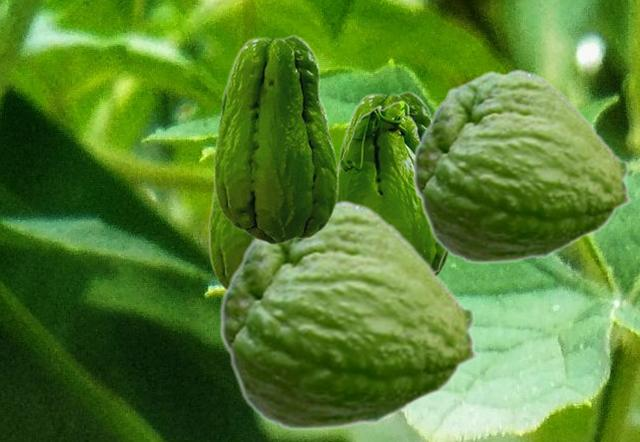sayote: (219, 199, 480, 431), (412, 68, 633, 264), (213, 34, 338, 244), (208, 100, 331, 288), (337, 90, 450, 275), (339, 100, 445, 272)
